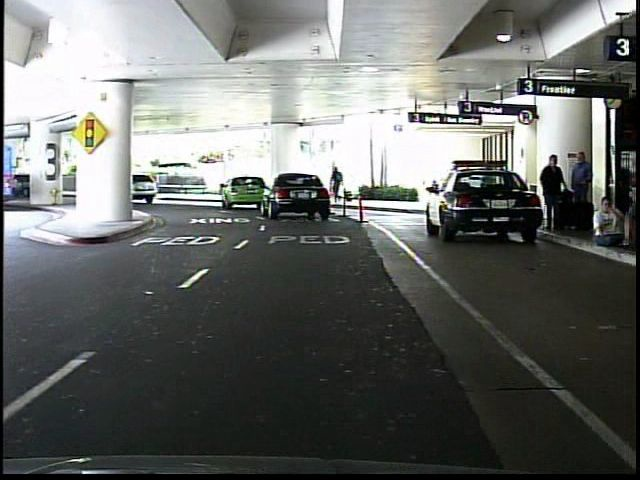person: (565, 147, 597, 234), (539, 155, 568, 234), (329, 161, 346, 205)
